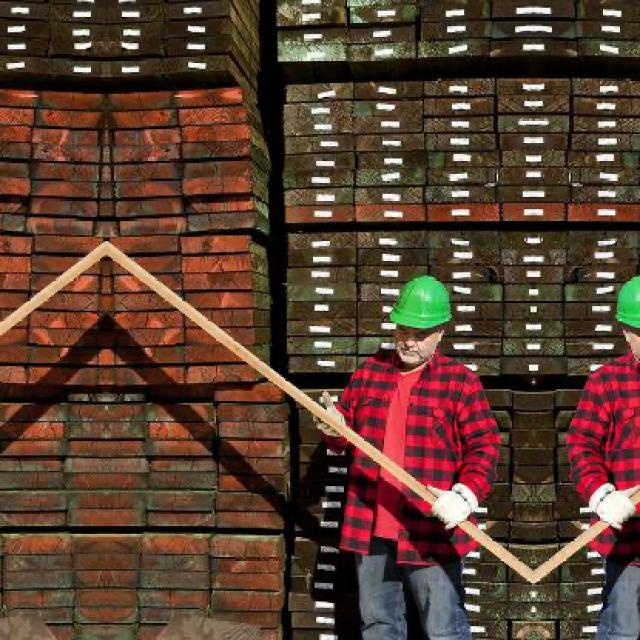helmet: (384, 265, 455, 372), (611, 264, 640, 373)
